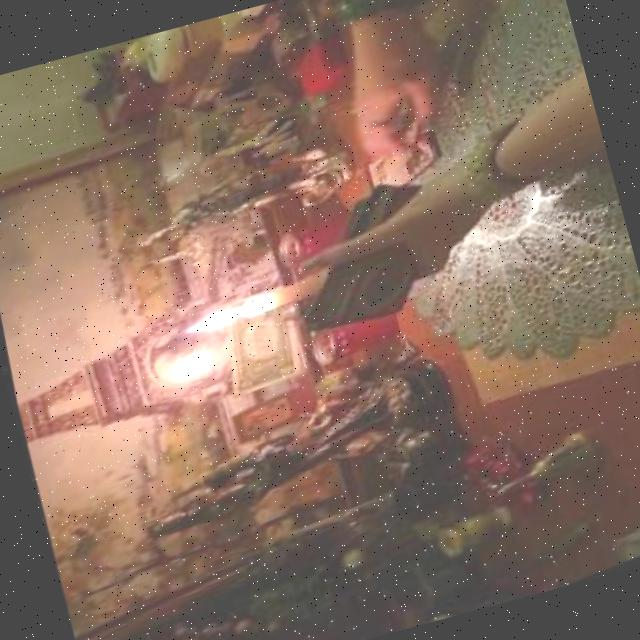fire: (170, 297, 255, 352)
